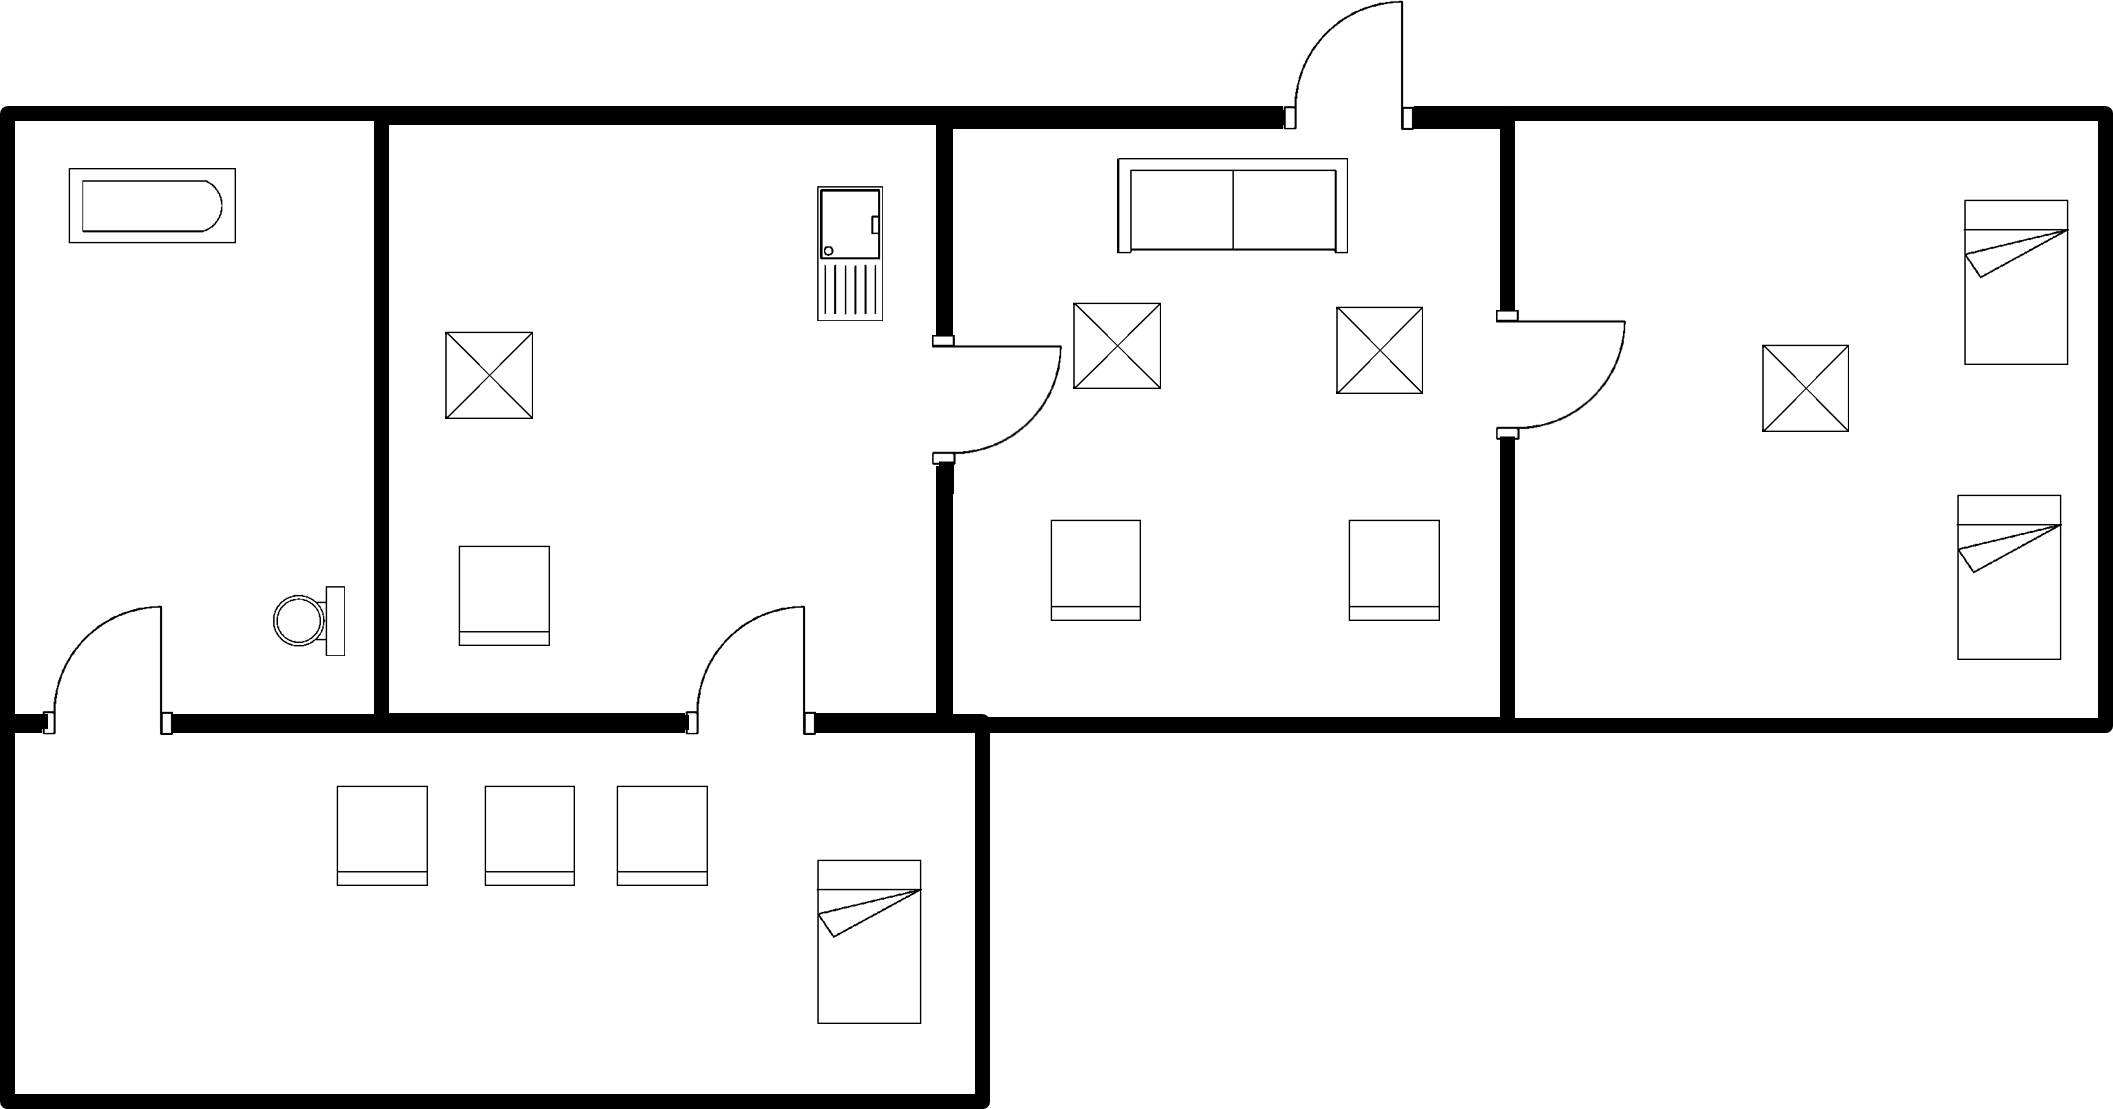bed: (1956, 187, 2080, 384), (804, 849, 931, 1039), (1948, 486, 2072, 672)
coffee_table: (433, 325, 545, 434), (1745, 336, 1857, 446), (1063, 293, 1177, 401), (1327, 298, 1434, 408)
large_sink: (259, 575, 354, 661)
large_sofa: (1109, 151, 1359, 266)
sink: (807, 177, 898, 333)
small_sofa: (1039, 507, 1154, 636), (324, 775, 442, 901), (448, 534, 565, 657), (607, 774, 718, 901), (474, 775, 586, 896), (1341, 511, 1450, 631)
tub: (54, 155, 247, 255)
